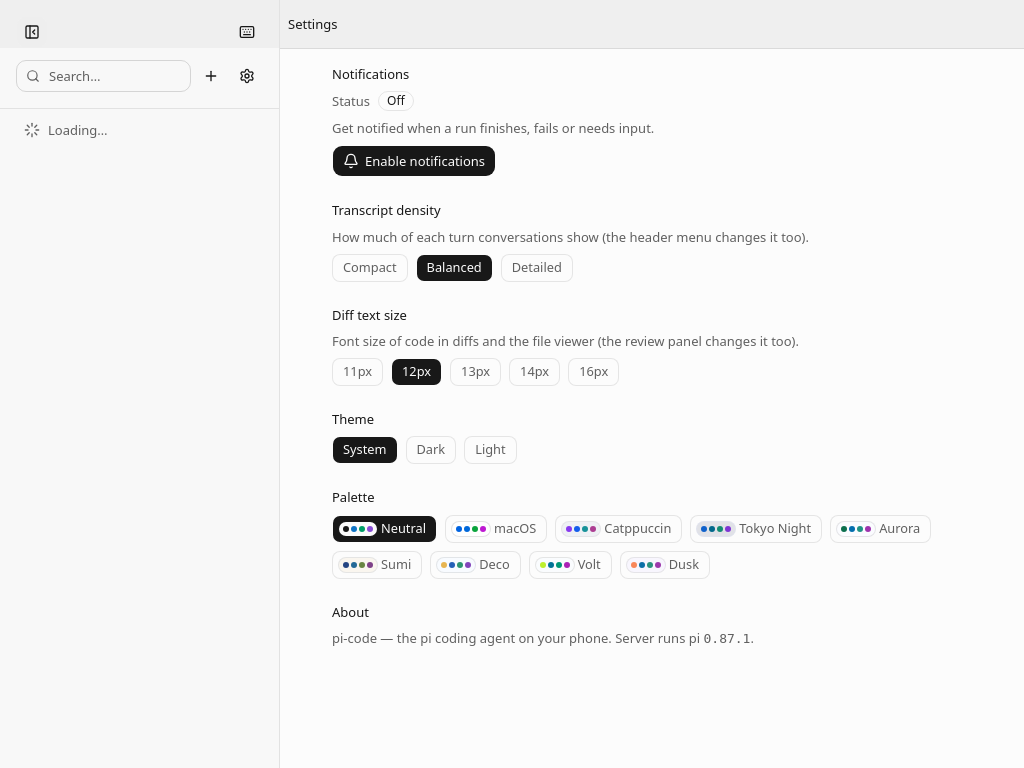
Test: Settings · notifications › enables: permission → subscribe with the VAPID key → upload; then disables
The width and height of the screenshot is (1024, 768).
Expected: the icon with test id "push-state" reads "Off", [387,92,405,109]
Click the button "Enable notifications".
click(414, 161)  # box [332,145,496,177]
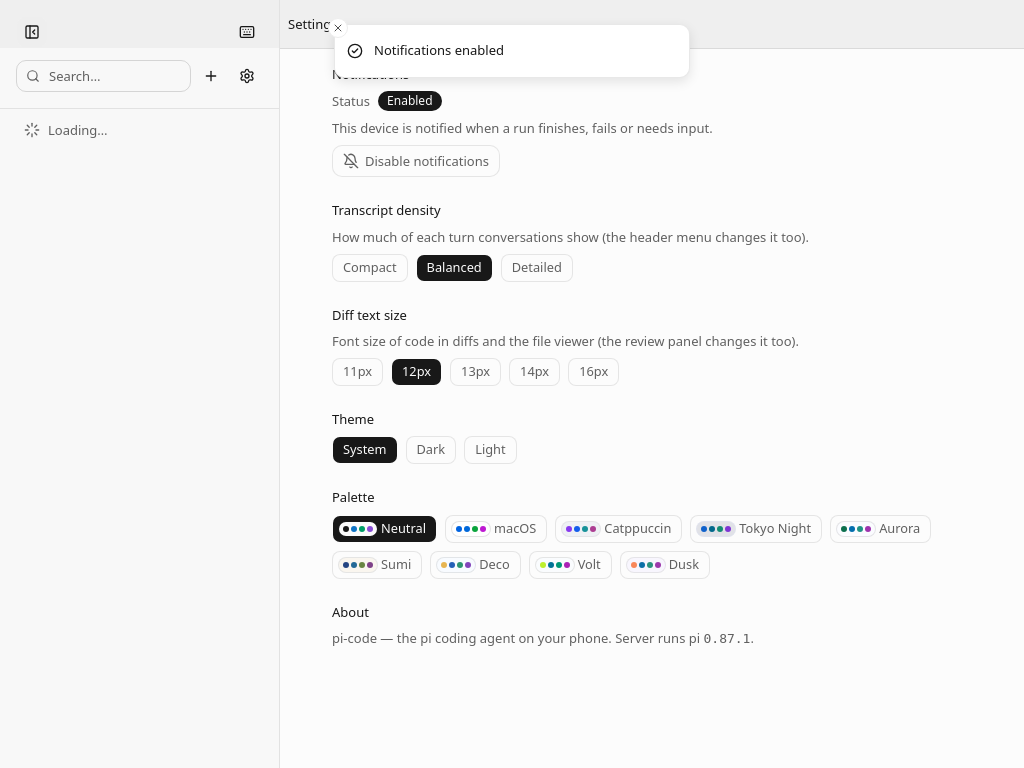
Result: the text with test id "push-state" reads "Enabled" at [387,92,433,109]
Click the button "Disable notifications".
click(416, 161)  # box [332,145,500,177]
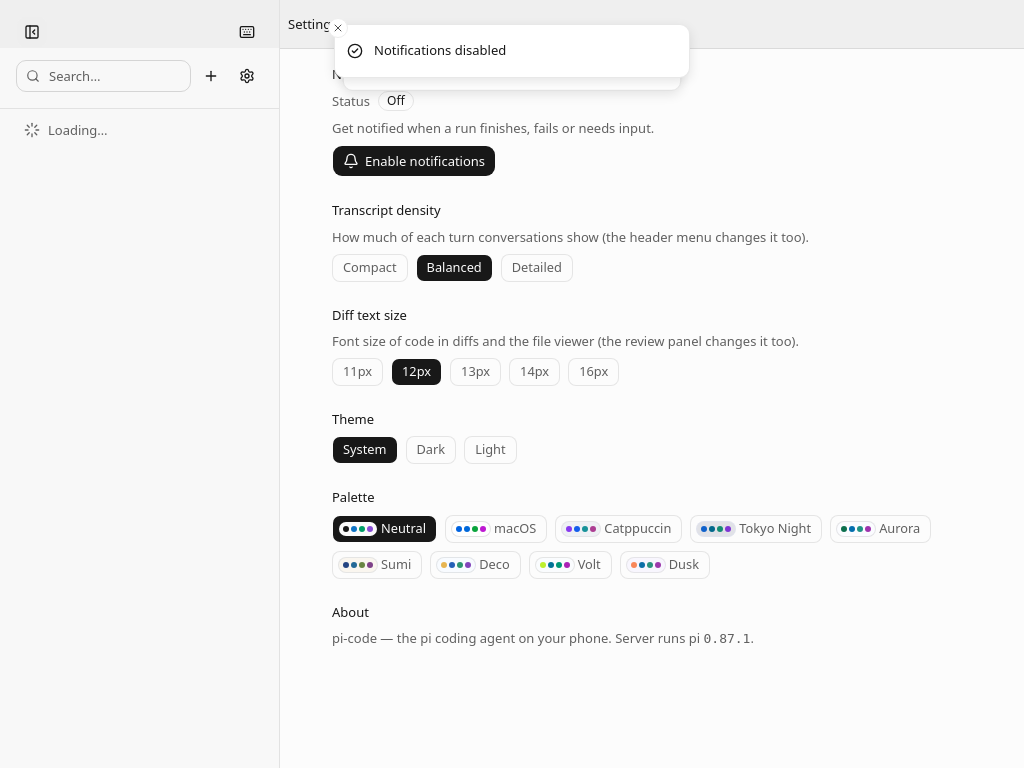
Result: the icon with test id "push-state" reads "Off" at [387,92,405,109]
